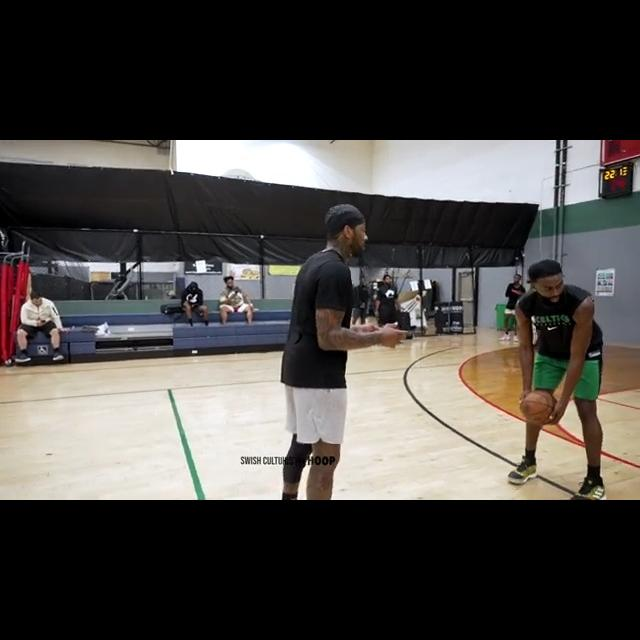basketball: (521, 389, 557, 424)
person: (278, 202, 378, 500), (505, 257, 609, 500), (16, 292, 67, 365), (218, 272, 256, 325), (500, 273, 527, 343), (376, 273, 403, 334), (182, 277, 209, 326), (349, 275, 372, 329)
